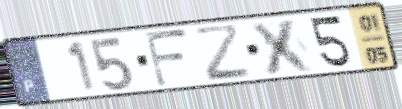1: (64, 39, 98, 94)
5: (86, 34, 137, 92), (307, 15, 354, 69)
F: (142, 27, 192, 90)
X: (248, 16, 318, 77)
Z: (190, 21, 255, 84)
